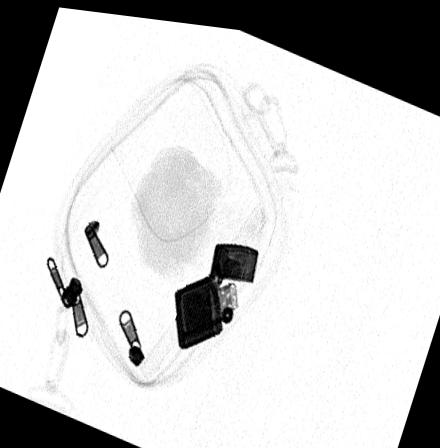Lighter: (173, 236, 257, 346)
